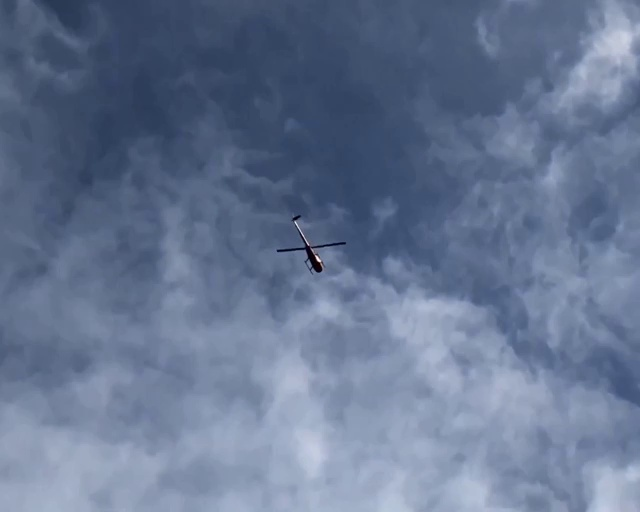HELICOPTER: (277, 212, 346, 274)
